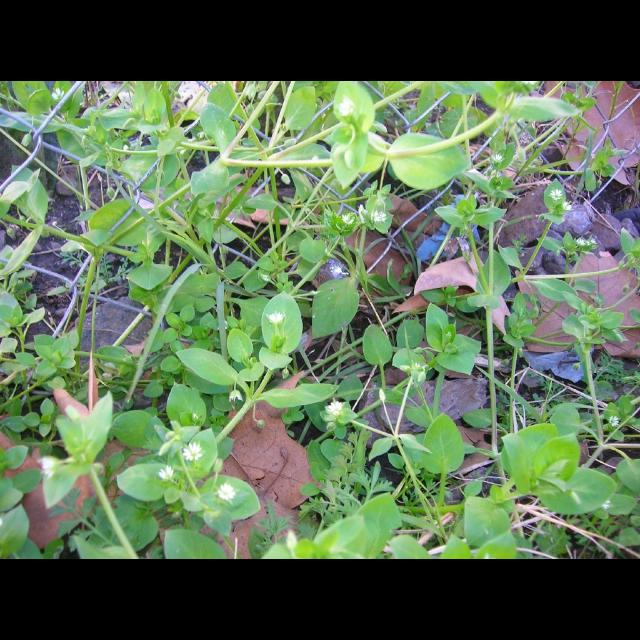Flower: (182, 440, 202, 460), (217, 484, 235, 502), (158, 462, 174, 480), (337, 100, 353, 116), (327, 402, 341, 414), (43, 460, 51, 474), (267, 314, 283, 320)
